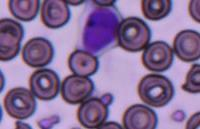L: (76, 6, 119, 56)
